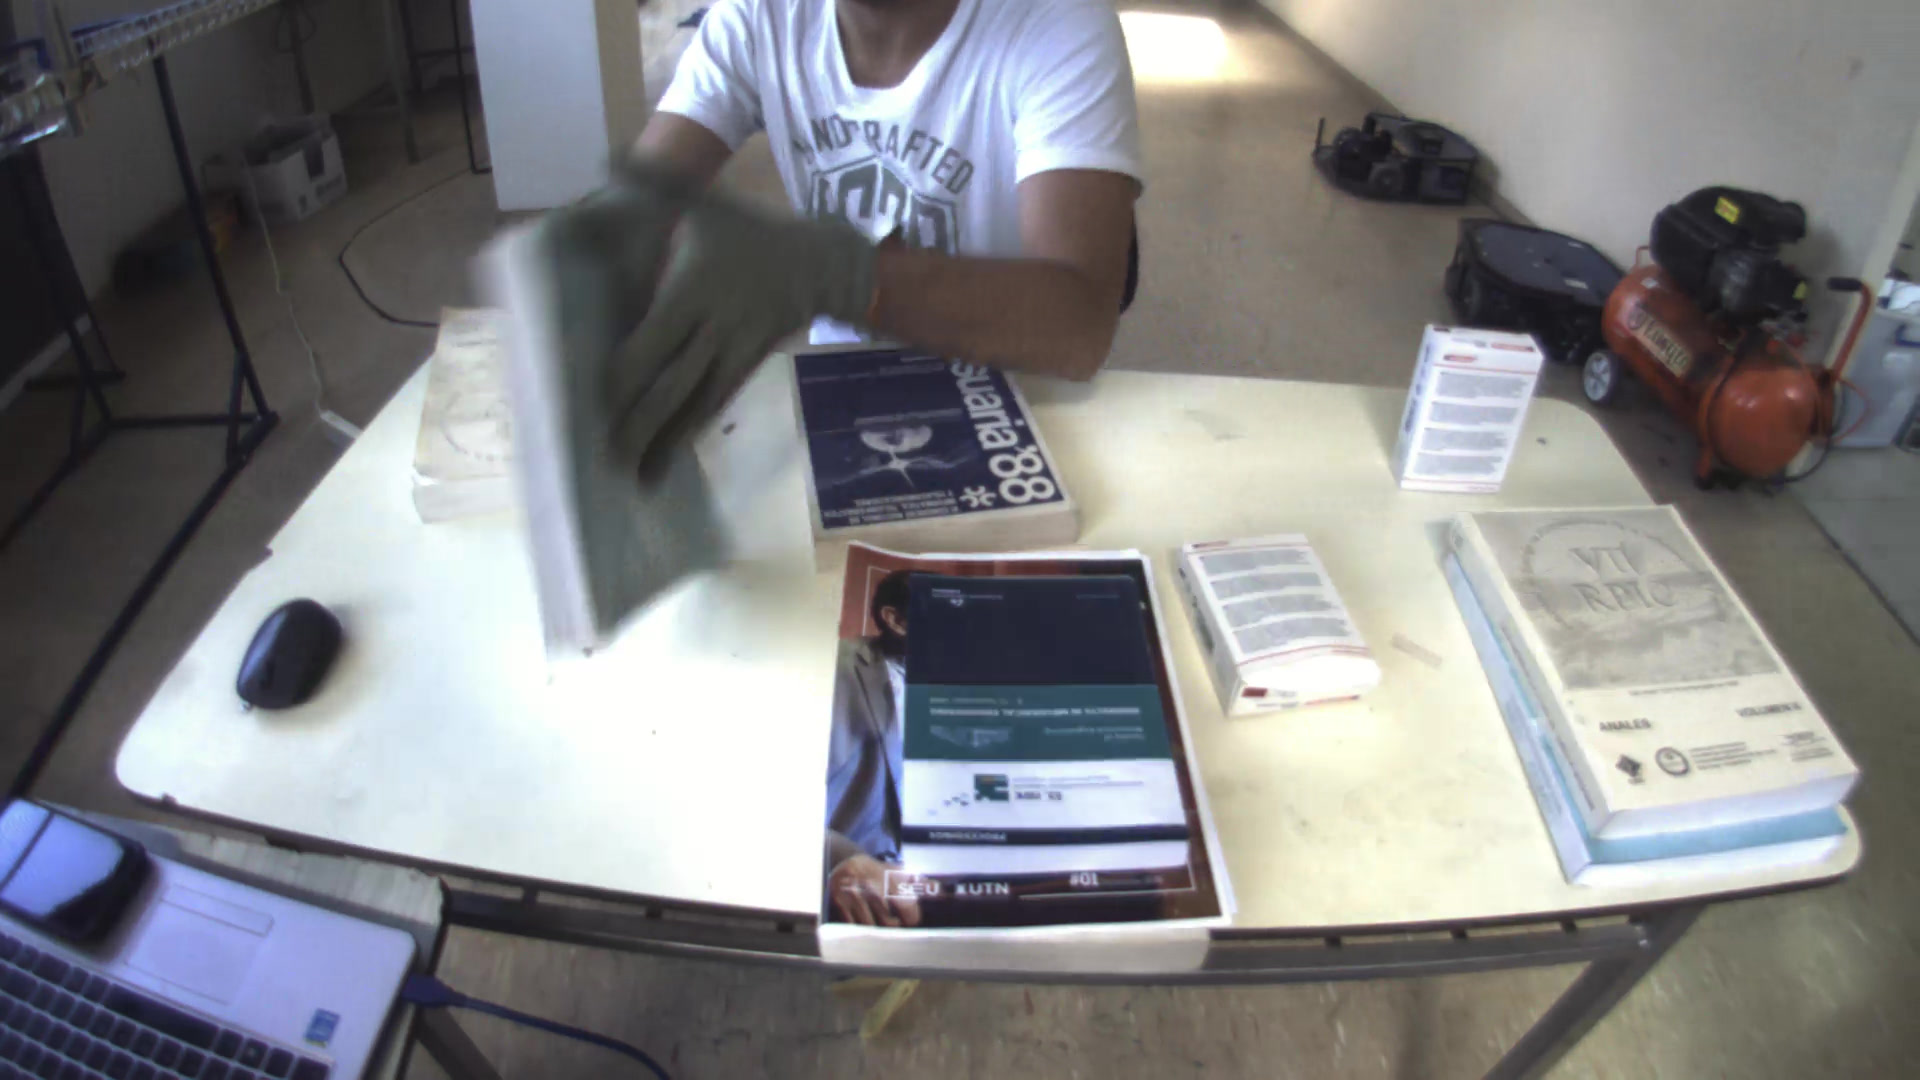hand: (578, 160, 874, 477)
